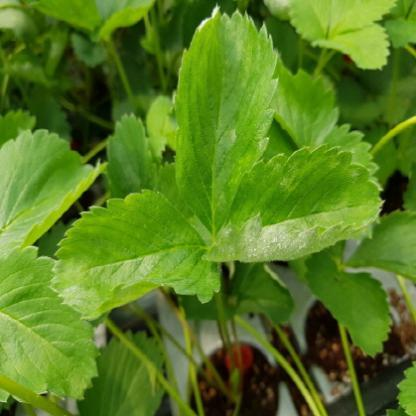Strawberry_Powdery_Mildew_Leaf: (172, 3, 282, 240), (48, 188, 222, 326), (203, 142, 385, 264)
